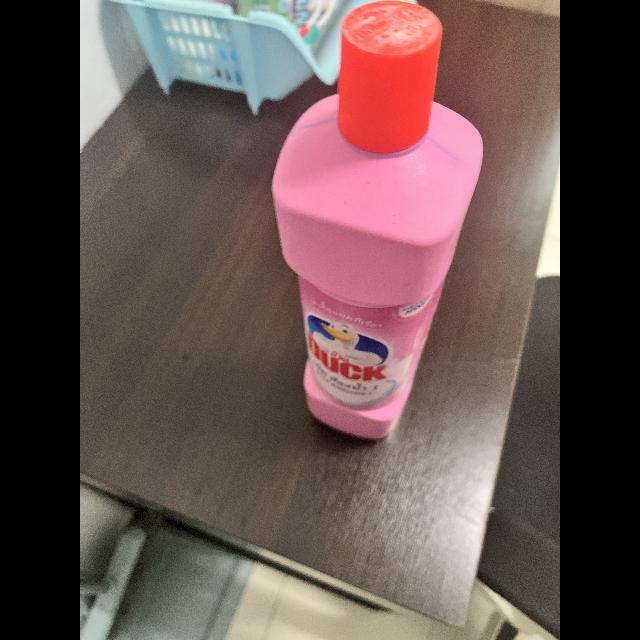chemical_plastic_bottle: (264, 0, 490, 458)
